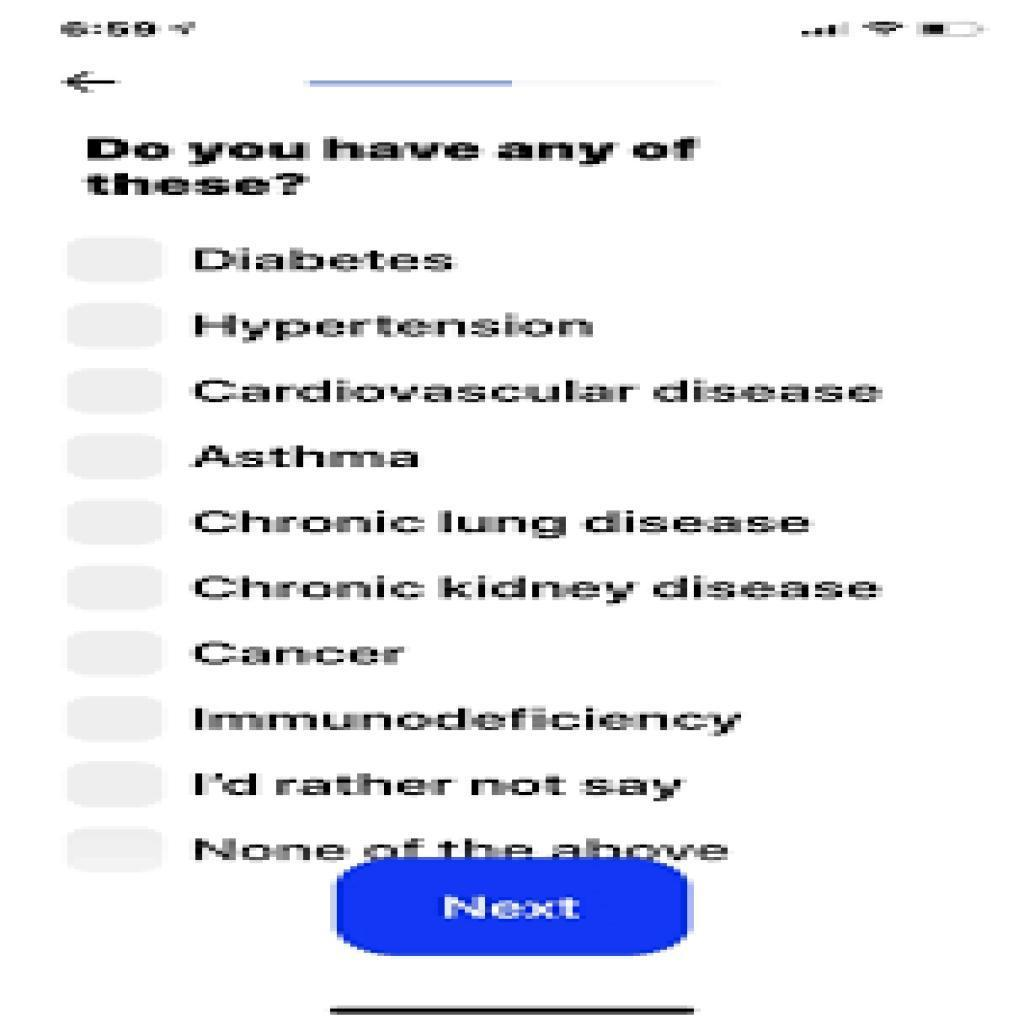button: (333, 860, 690, 955)
checkbox: (69, 695, 163, 744), (70, 630, 162, 679), (68, 500, 163, 547), (70, 238, 162, 285), (71, 436, 163, 483), (67, 370, 163, 415), (70, 565, 160, 612), (69, 827, 163, 871), (68, 765, 159, 809), (69, 304, 161, 347)
